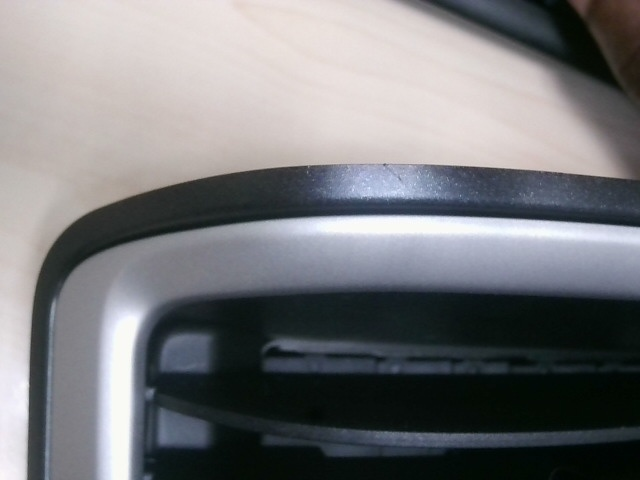NG: (377, 156, 408, 190)
